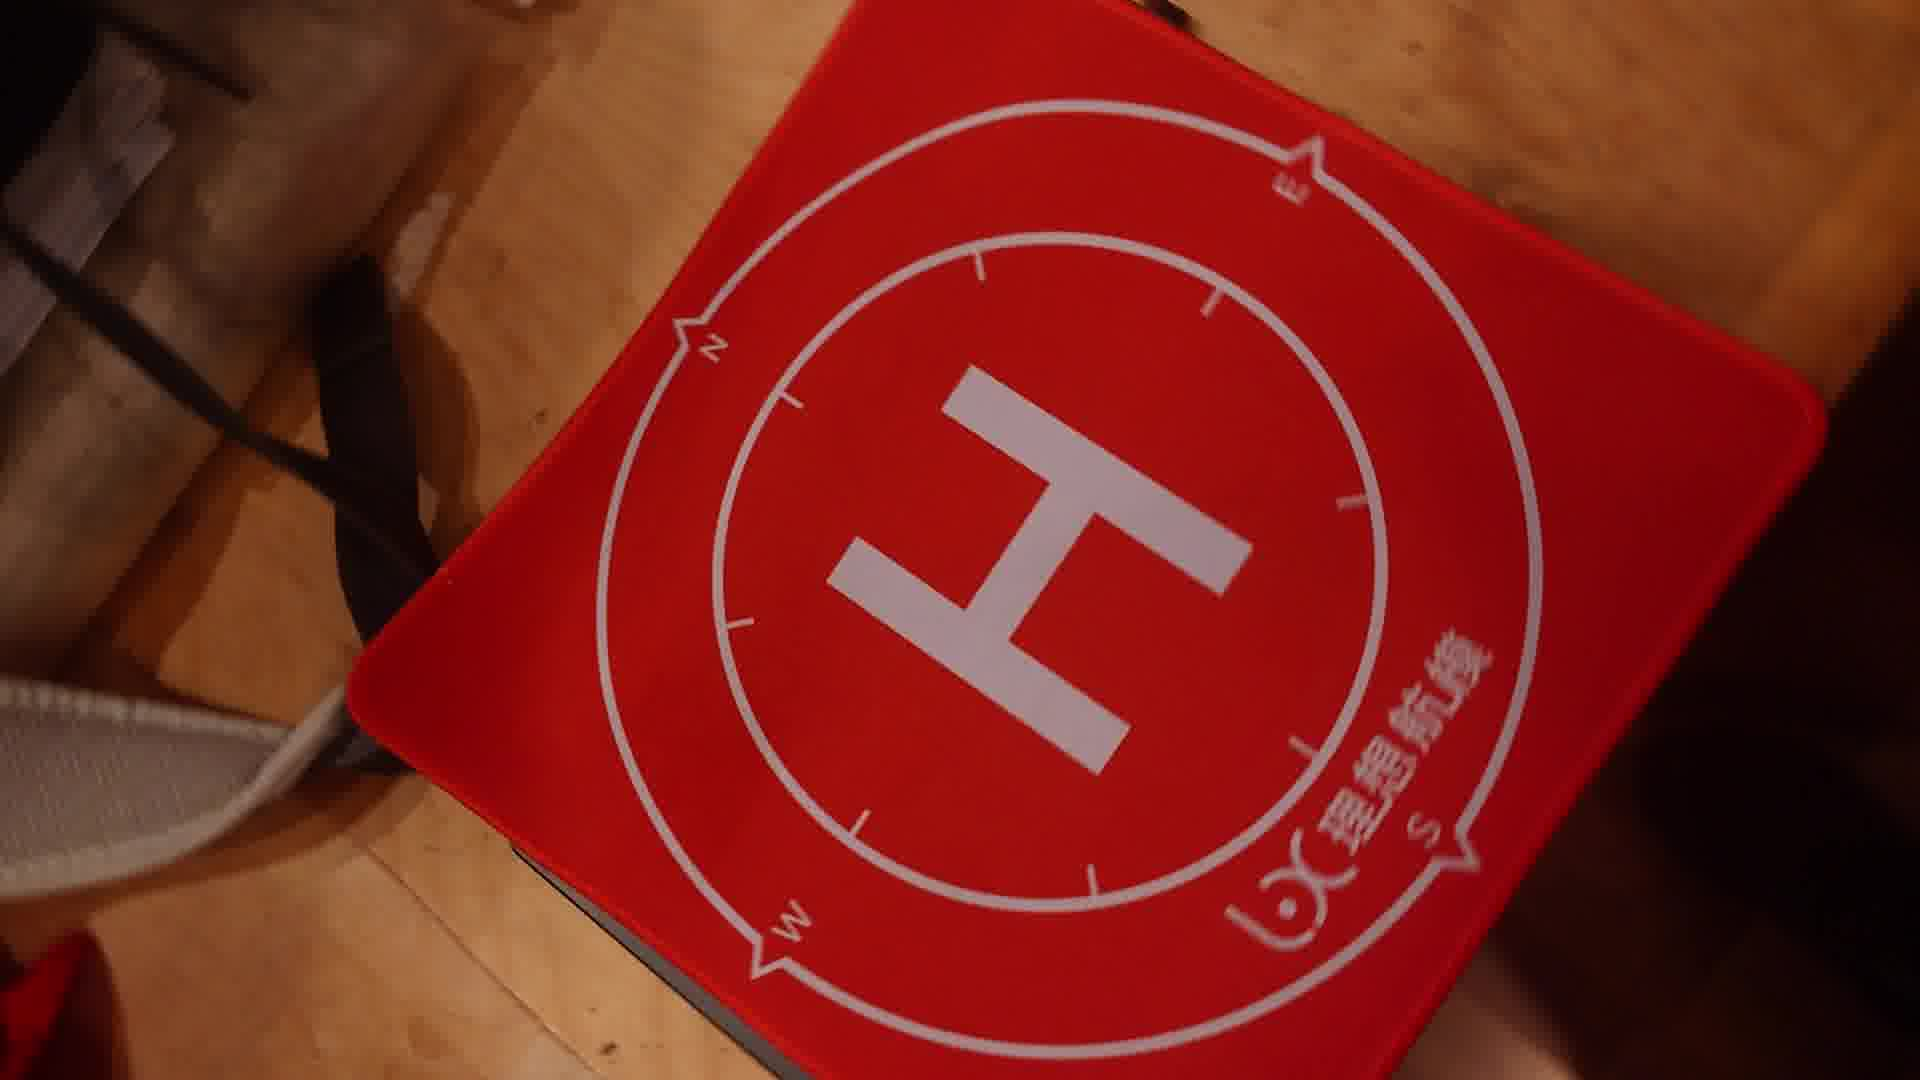H: (824, 367, 1253, 775)
